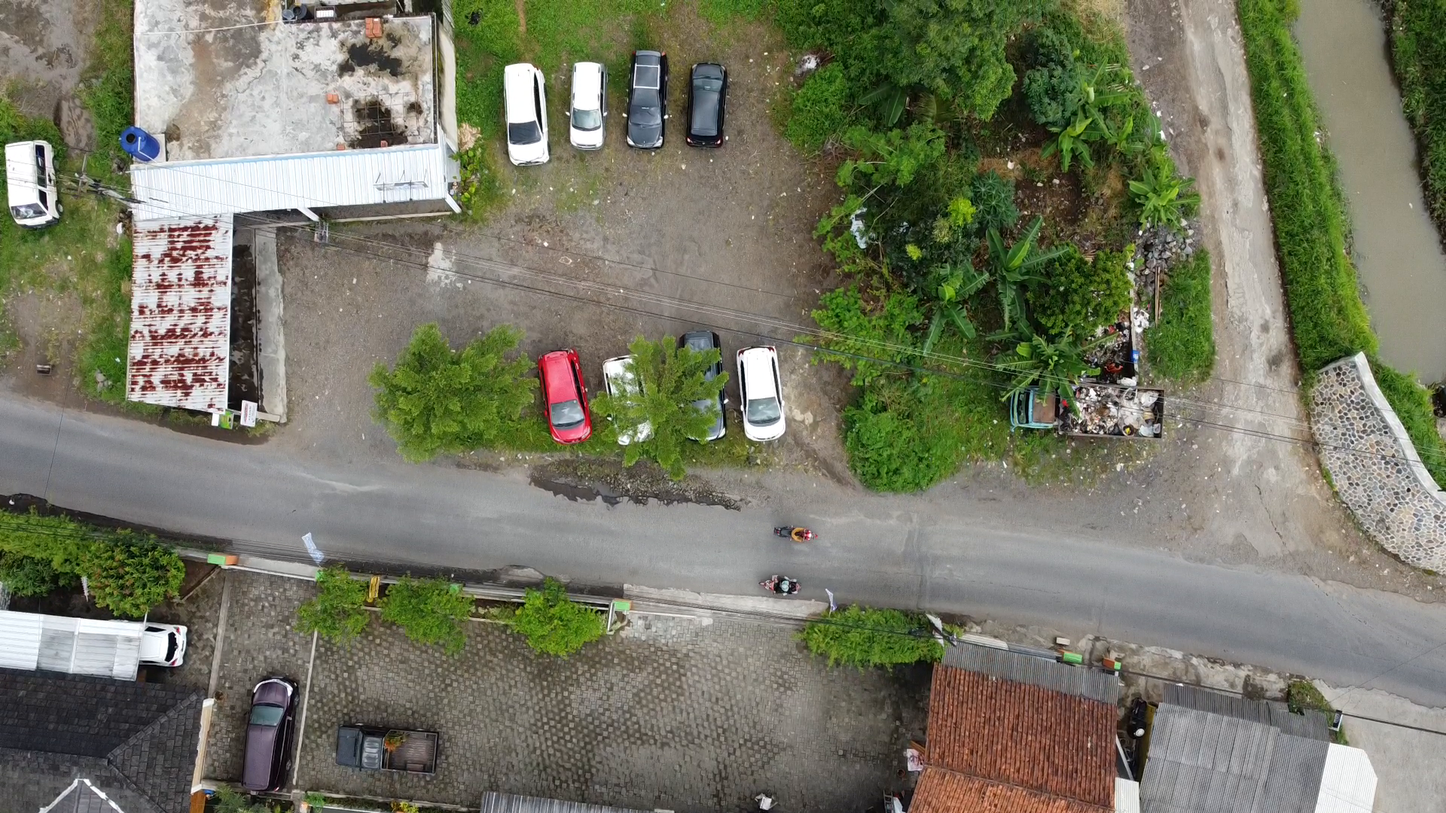mobil: (326, 712, 447, 778), (672, 330, 737, 452), (724, 340, 794, 452), (236, 669, 298, 785), (532, 340, 599, 445), (593, 344, 654, 455), (5, 135, 69, 230), (498, 59, 554, 166), (621, 38, 670, 152), (563, 51, 615, 157), (680, 59, 736, 144), (139, 620, 206, 670)
